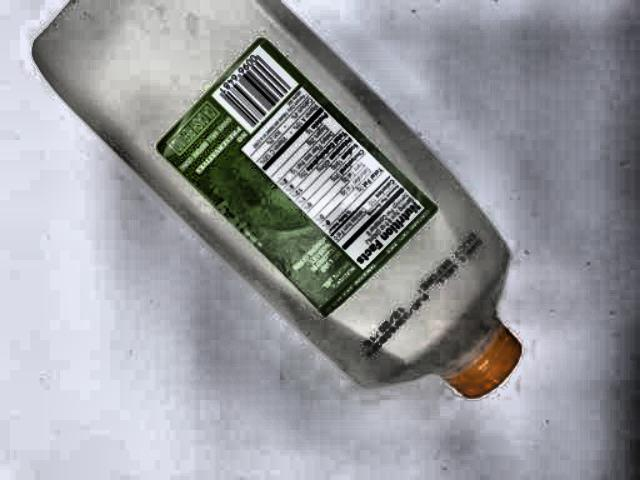Plastic: (15, 0, 538, 412)
